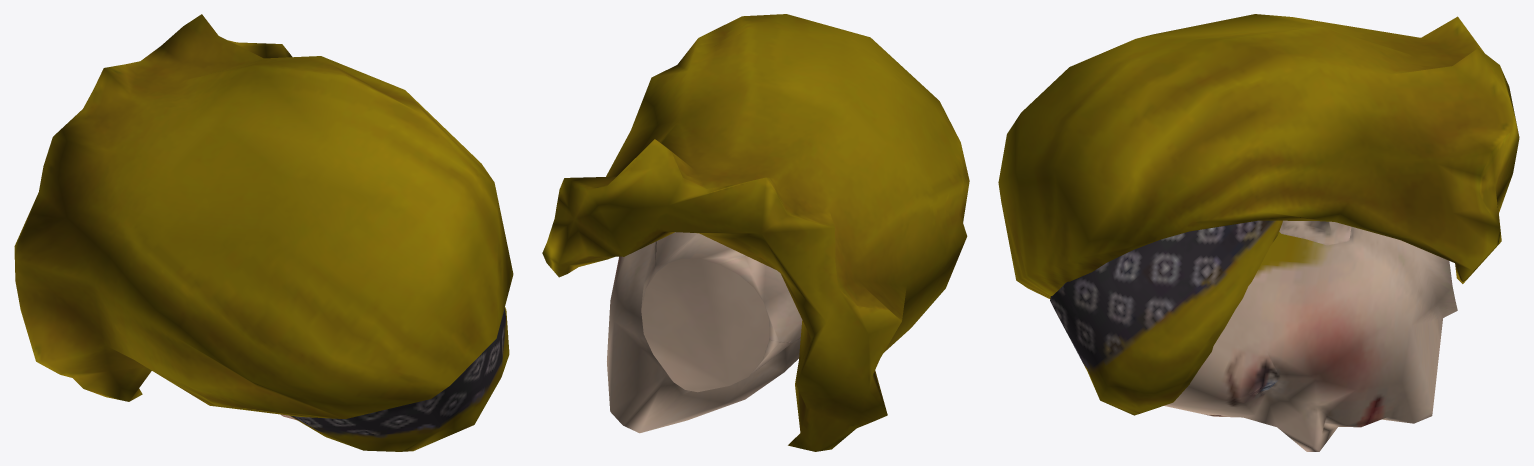
File: dest_nt_nuked_female_03_head_LOD2.obj
3 views of the same model, side by side, from view 1: azimuth 30°, elevation 25°; view 2: azimuth 150°, elevation 25°; view 3: azimuth 270°, elevation 25° (orthographic). The views are drawn at different scales.
Visible parts, largest first — view 1: mtl_nt_2020_manne_fem01_hair2; view 2: mtl_nt_2020_manne_fem01_hair2, mtl_nt_2020_manne_fem01_head2; view 3: mtl_nt_2020_manne_fem01_hair2, mtl_nt_2020_manne_fem01_head2.
Boxes of the visible parts, x1=… form: mtl_nt_2020_manne_fem01_hair2: x1=14, y1=14, x2=513, y2=451; mtl_nt_2020_manne_fem01_hair2: x1=542, y1=14, x2=969, y2=451; mtl_nt_2020_manne_fem01_head2: x1=607, y1=232, x2=802, y2=433; mtl_nt_2020_manne_fem01_hair2: x1=998, y1=14, x2=1519, y2=415; mtl_nt_2020_manne_fem01_head2: x1=1164, y1=220, x2=1457, y2=451.
Size of the model in its own units: 27.87 by 26.05 by 32.5.
